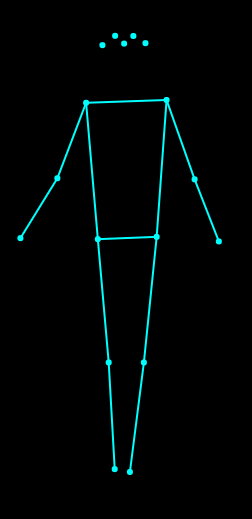mountain: (13, 27, 225, 481)
